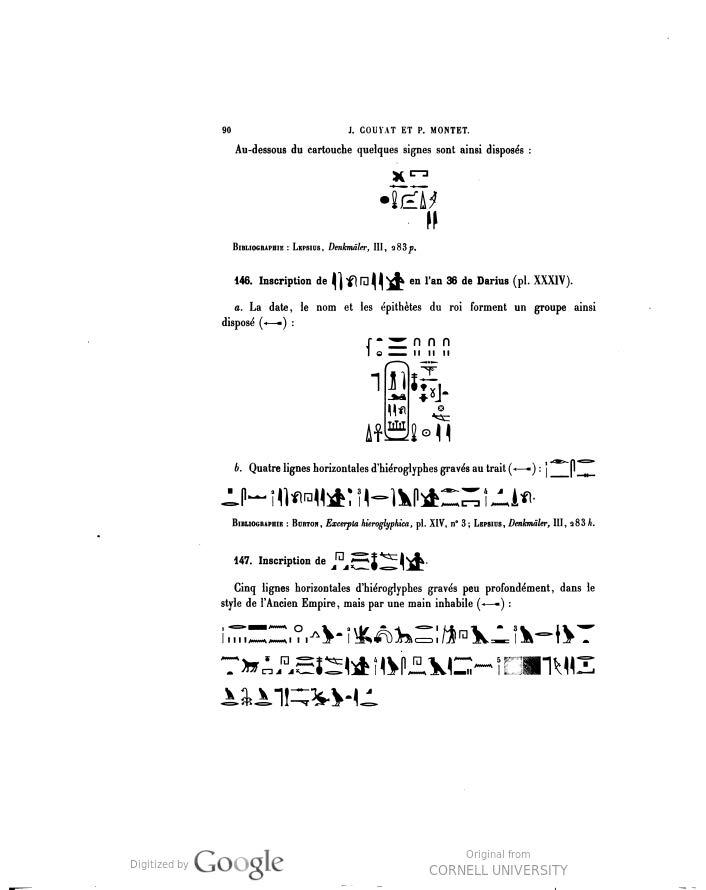circle: (374, 346, 433, 447)
